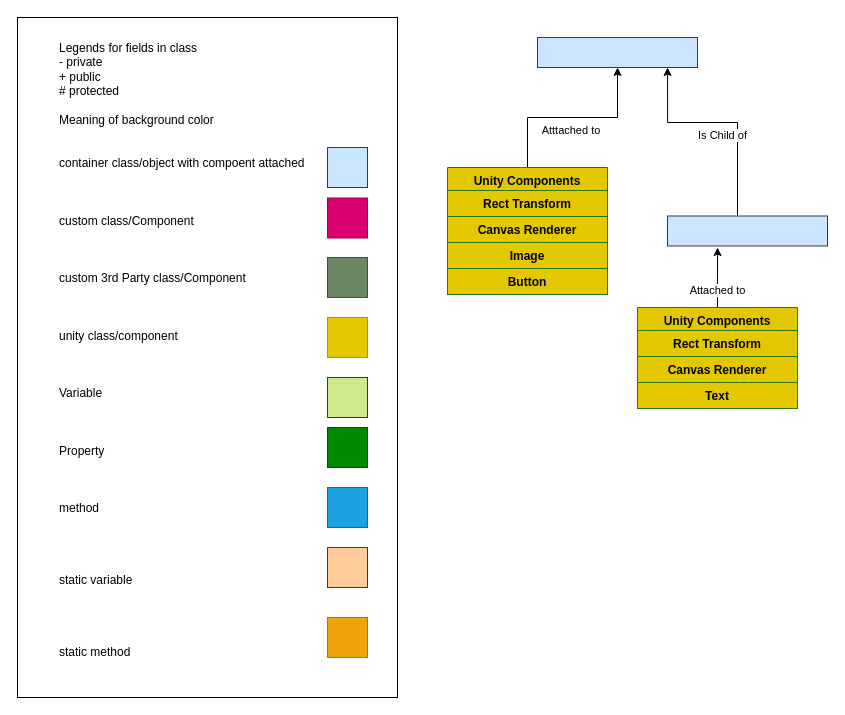
This 845x715 diagram has some shape labels left out. The shapes that lost their labels are listed below. From the top down, each one's box as (x1, y1, x2, y2) in pixels, then its label:
(536, 36, 698, 68): Button Menu
(666, 215, 828, 246): Text Button Menu
